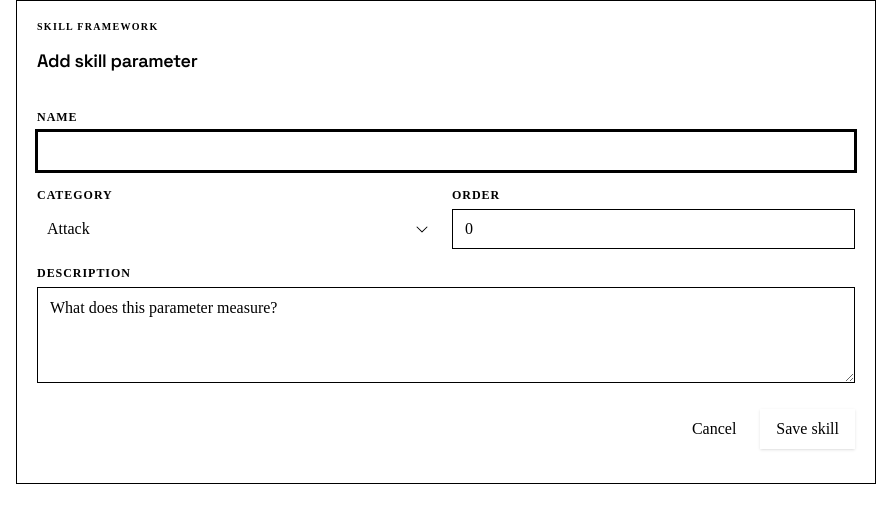
SkillForm › shows boundary validation before submitting an empty skill
Click the button "Save skill" at x=808, y=429, box [760,409,855,449]
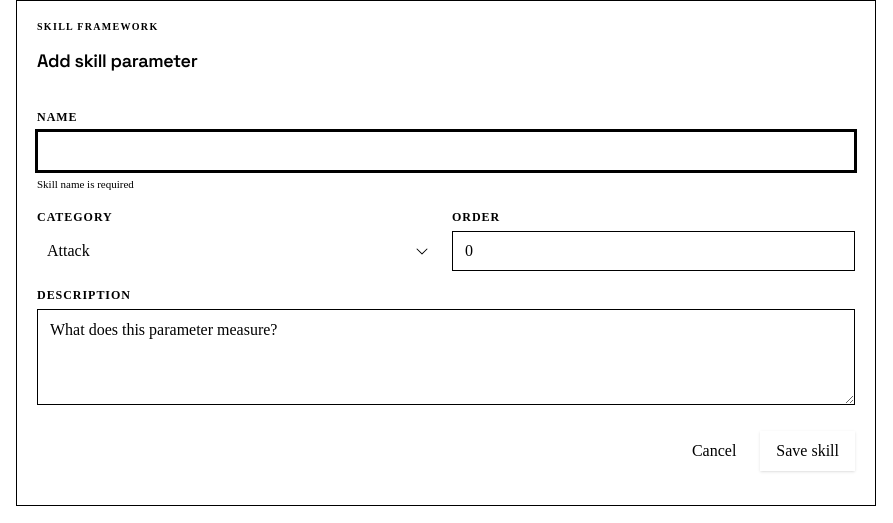
Result: the text "Skill name is required" is shown at [37,178,134,190]
